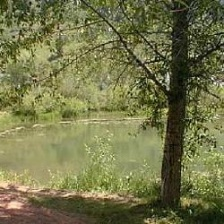neutral: (2, 1, 221, 220)
